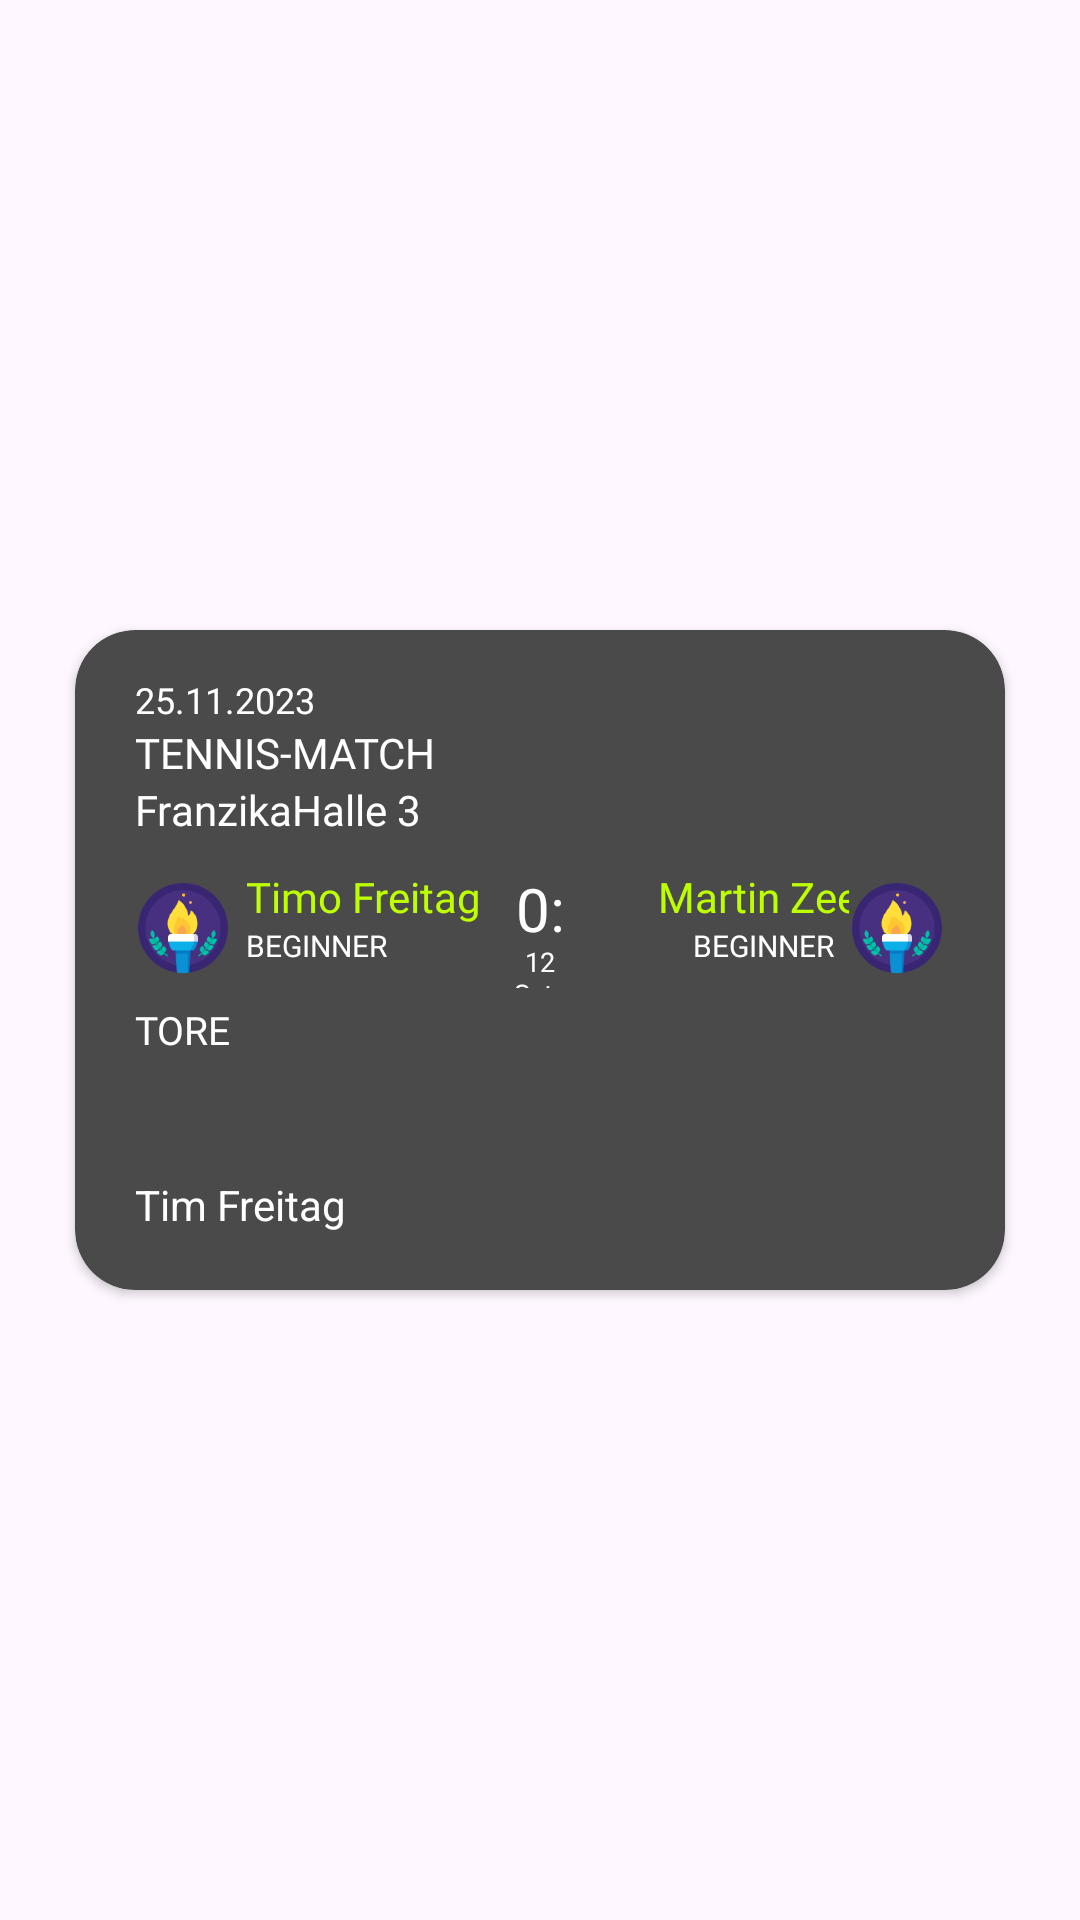

Point at icon controls on the screen. Image size 1080px×1920px, points as (x=x, y=y).
achievement: (x=183, y=928), (x=897, y=928)
